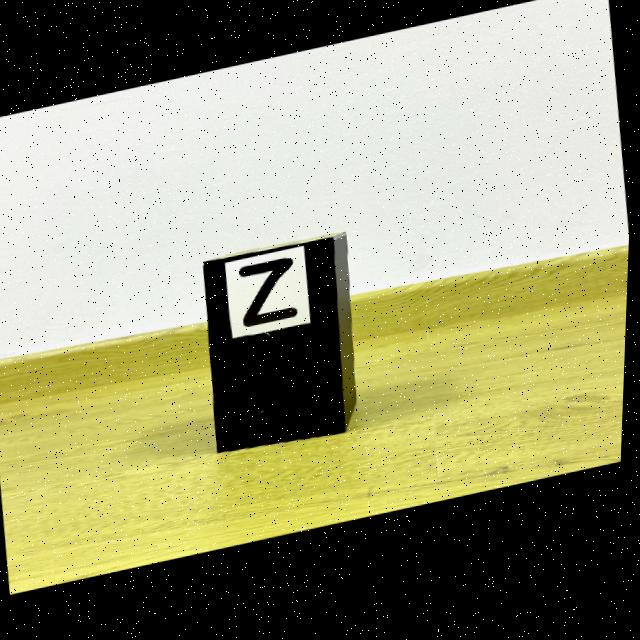Z: (242, 264, 300, 332)
